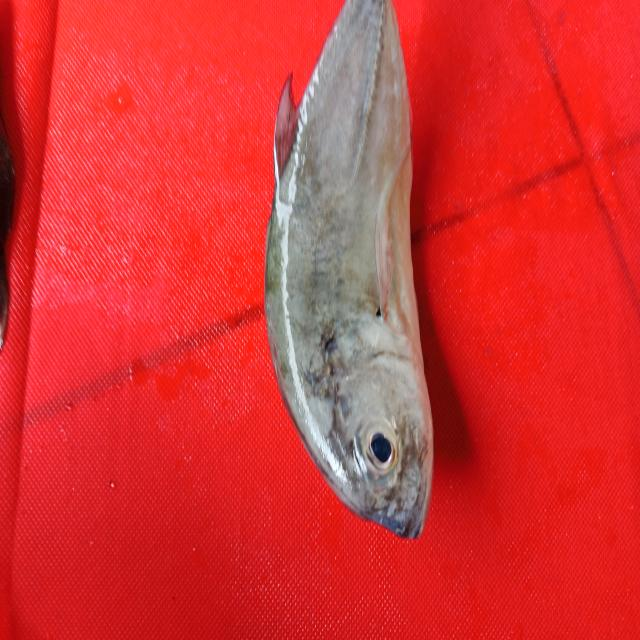ikan: (246, 5, 456, 552)
